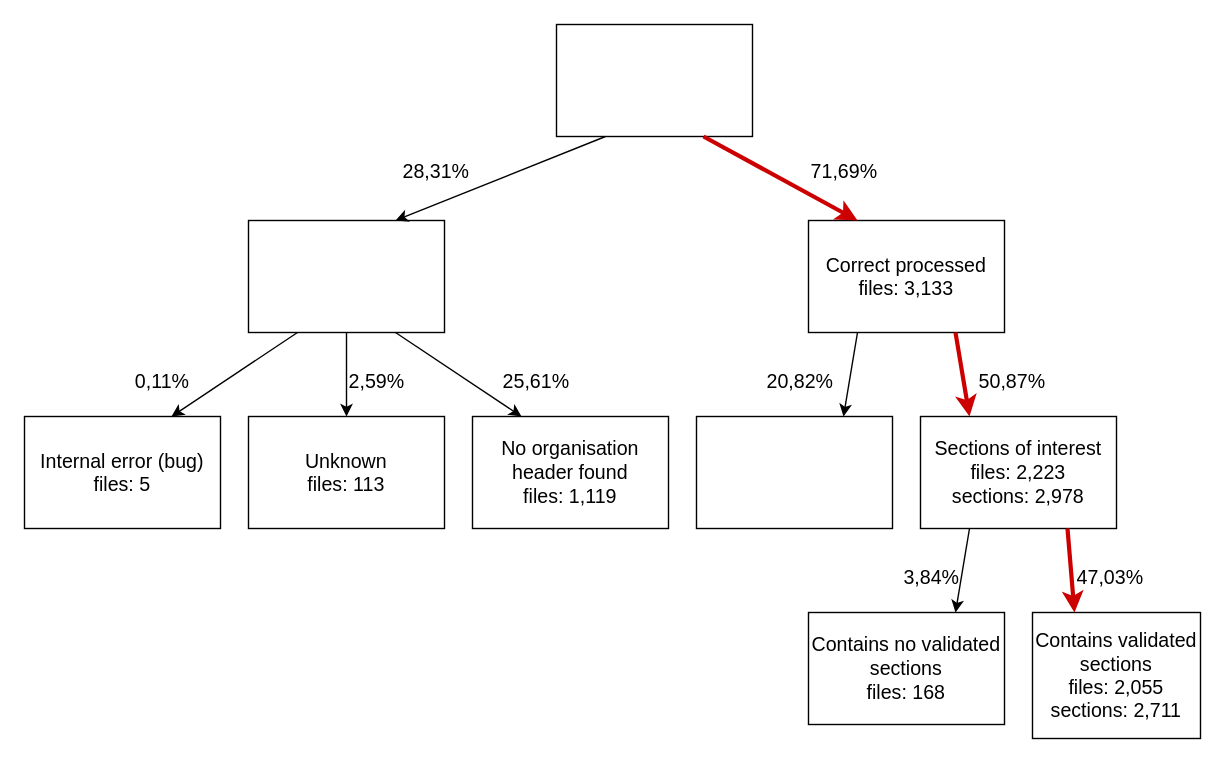
The diagram is 1225 pixels wide and 763 high, and some of its shapes have lost their labels. Here are the shapes that lost their labels. From the top down, the centre of each, then its label:
(x=653, y=79): Total files 4,370
(x=345, y=275): Incorrect processed files: 1,237
(x=793, y=471): No sections of interest files: 910
